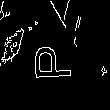P_W: (30, 51, 76, 91)
